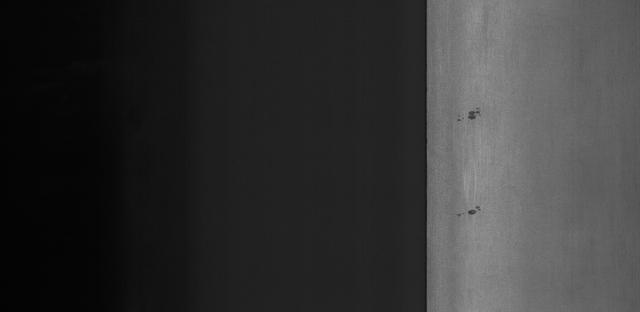oil_spot: (455, 197, 491, 222), (454, 104, 489, 128)
